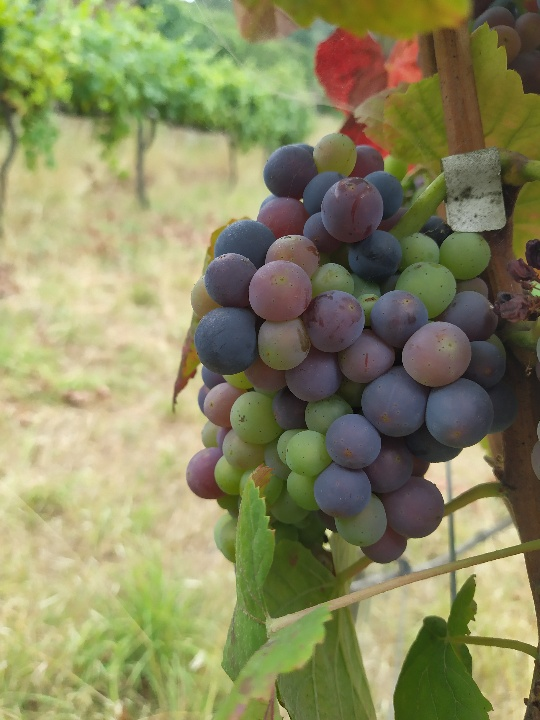grape: (182, 130, 512, 568)
